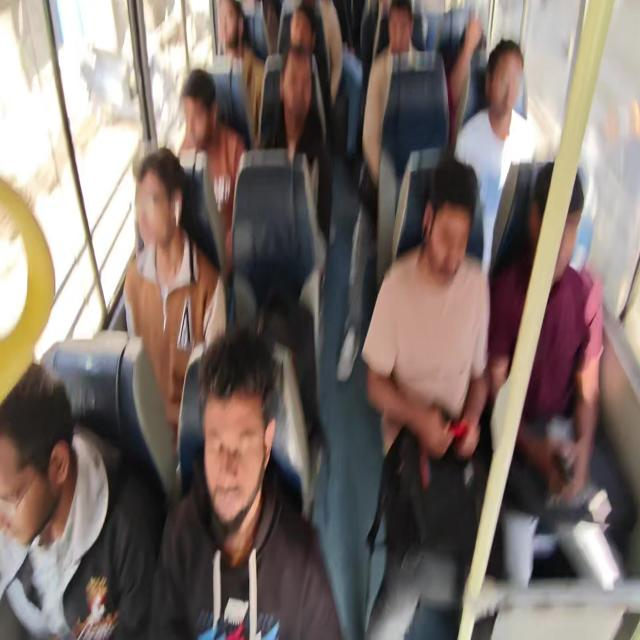person: (163, 312, 285, 545), (0, 336, 70, 607), (512, 141, 568, 279), (481, 46, 538, 144), (125, 169, 168, 290), (286, 69, 338, 151), (418, 189, 462, 285), (179, 66, 211, 142), (390, 1, 426, 65), (211, 1, 242, 72), (333, 0, 365, 65), (454, 27, 488, 73), (288, 3, 312, 46)
